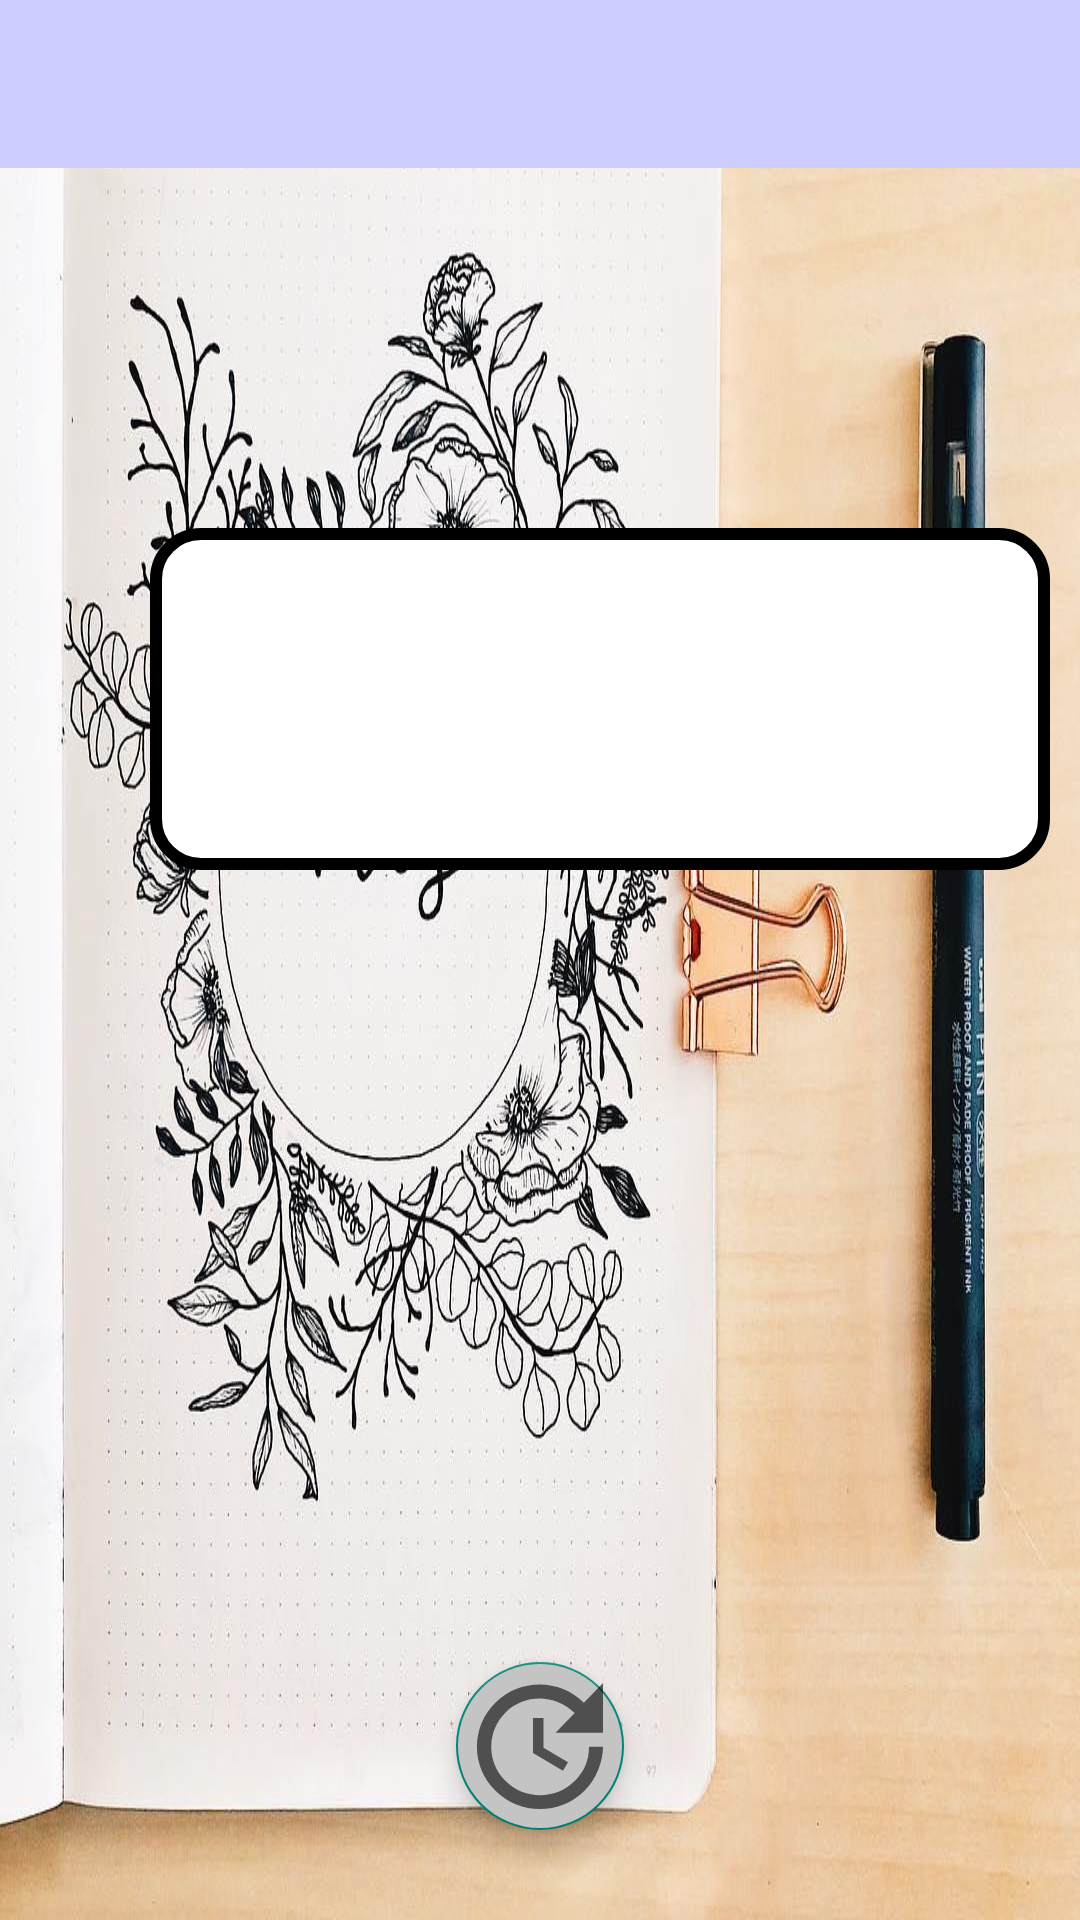

Icons on this 1080×1920 Android screen, each with the point to tap as point (x, y):
update: point (540, 1746)
